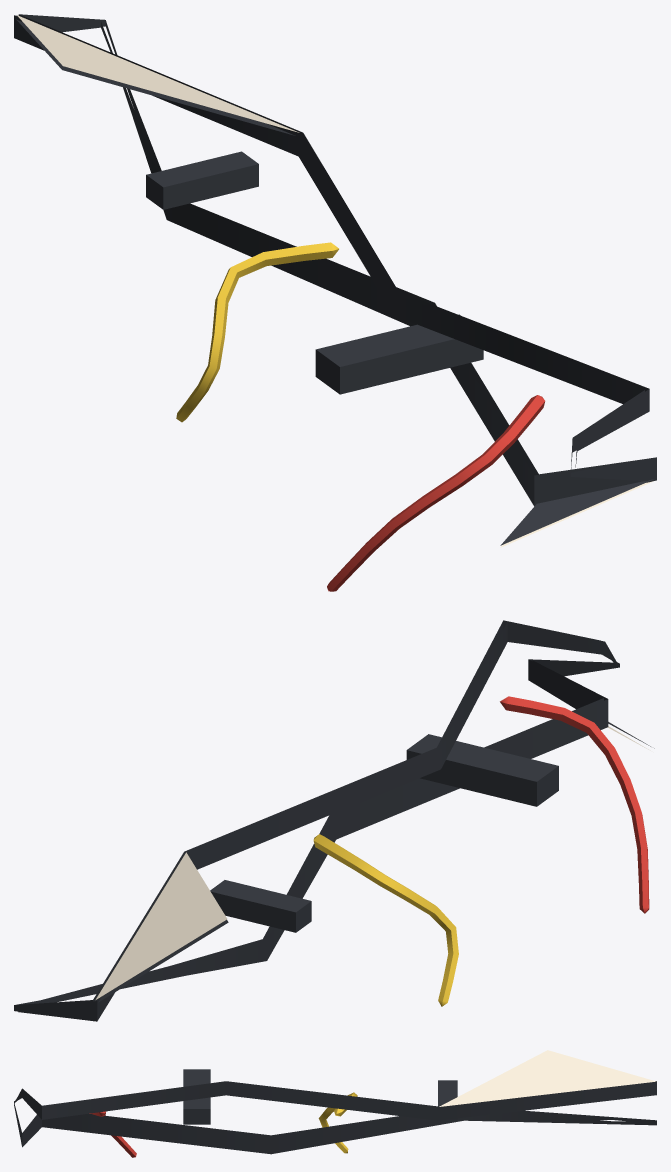
Rendered from RotBordeAlaDer.fbx.
The picture shows the model from 3 angles, top to bottom: view 1: azimuth 30°, elevation 25°; view 2: azimuth 150°, elevation 25°; view 3: azimuth 270°, elevation 25°; orthographic projection. The views are drawn at different scales.
Parts seen in each view (by area): view 1: RotBordeAlaDer; view 2: RotBordeAlaDer; view 3: RotBordeAlaDer.
Boxes of the visible parts, left/top/right/bottom form: RotBordeAlaDer: left=14, top=14, right=656, bottom=591; RotBordeAlaDer: left=14, top=620, right=654, bottom=1021; RotBordeAlaDer: left=14, top=1050, right=656, bottom=1157.
Bounding box in the file's own units: 2.04 × 1.89 × 8.2.
Materials: 1 (1 with a texture image).
